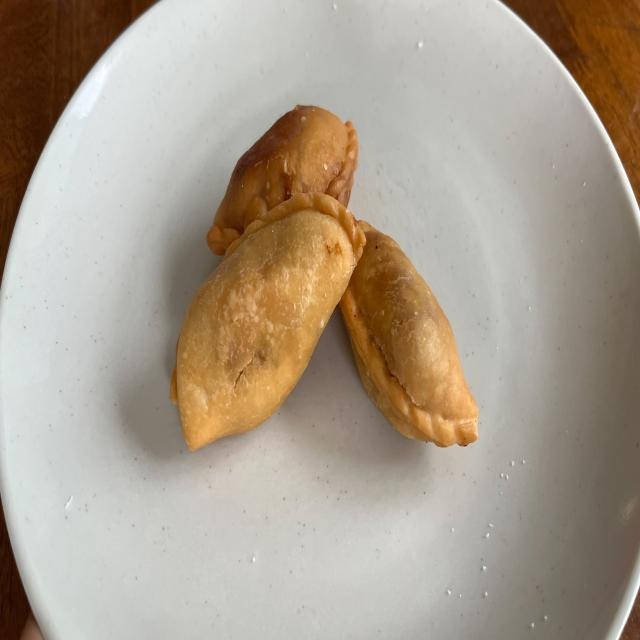karipap: (170, 191, 365, 449), (340, 222, 479, 447), (208, 104, 359, 256)
